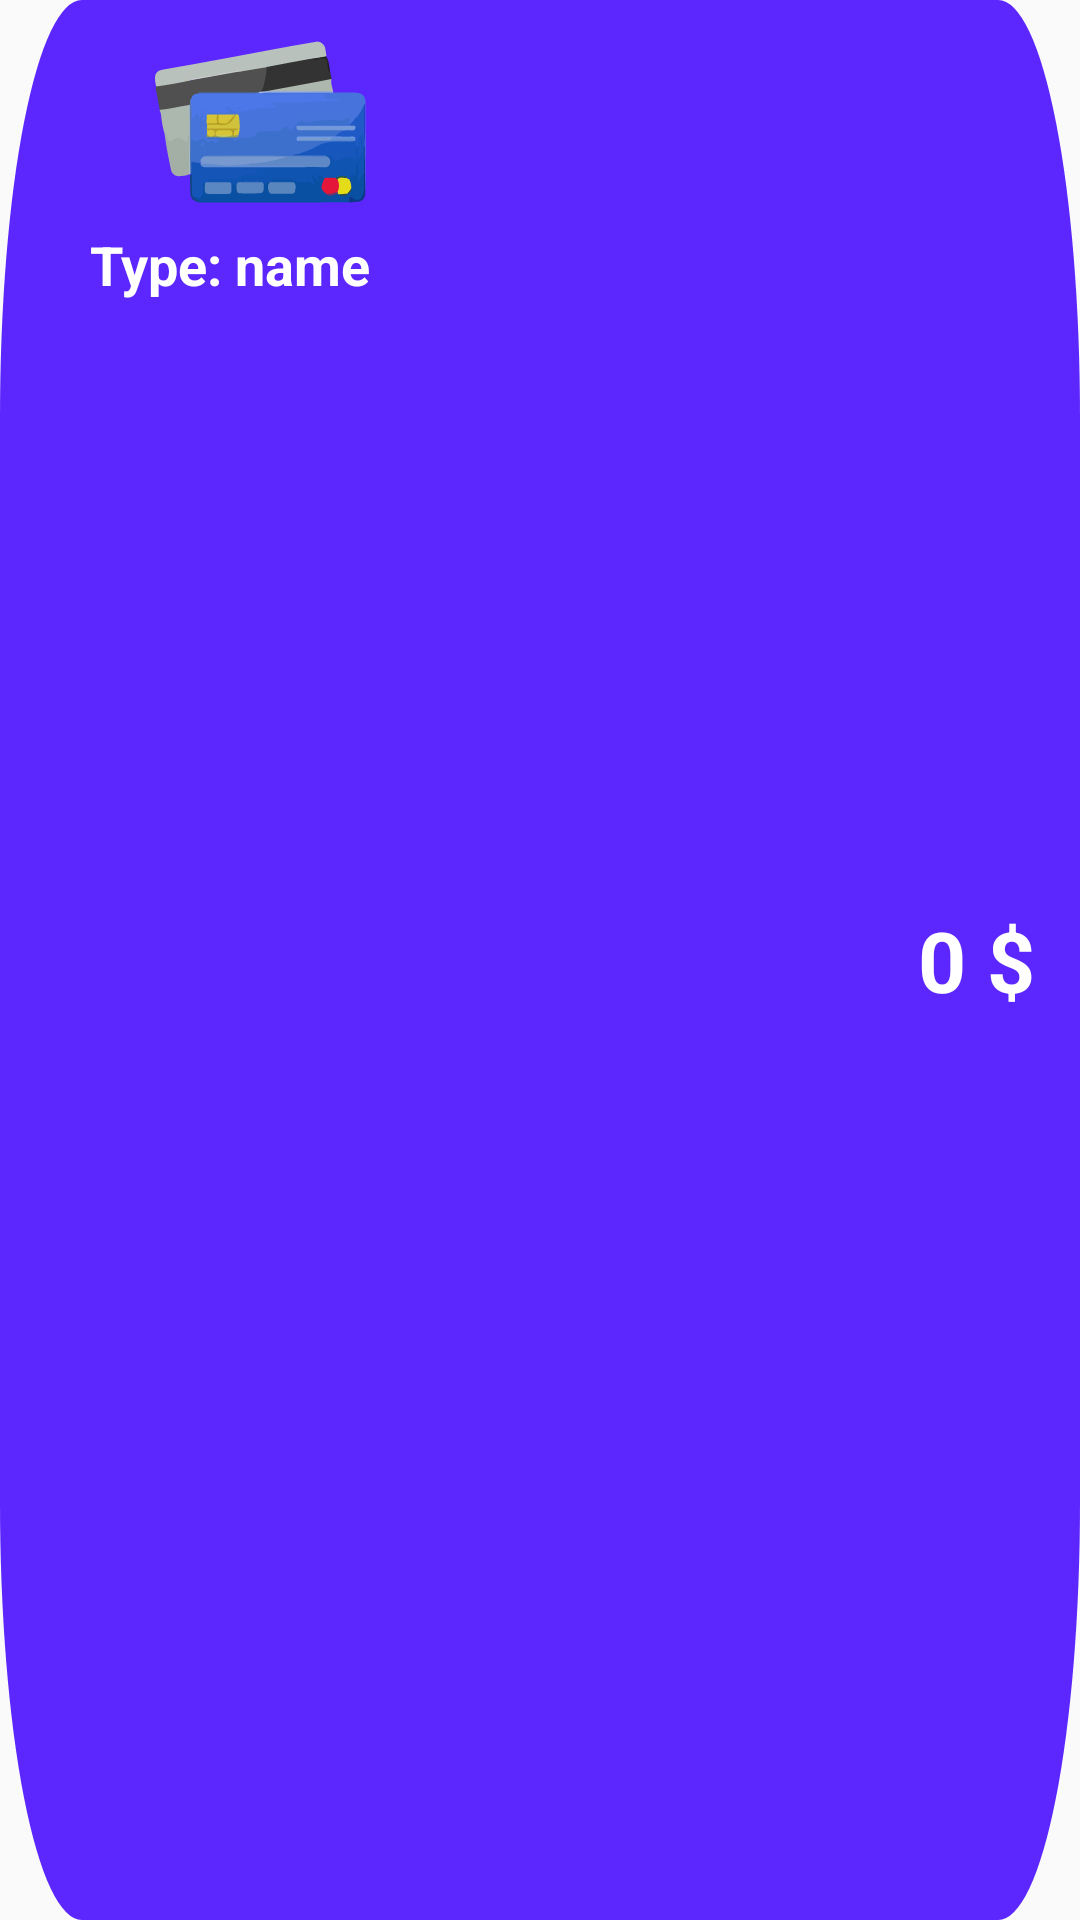

Screen size 1080 × 1920. Icon name, then its center in pixels as [x,y]:
Card Icon: [260,122]
